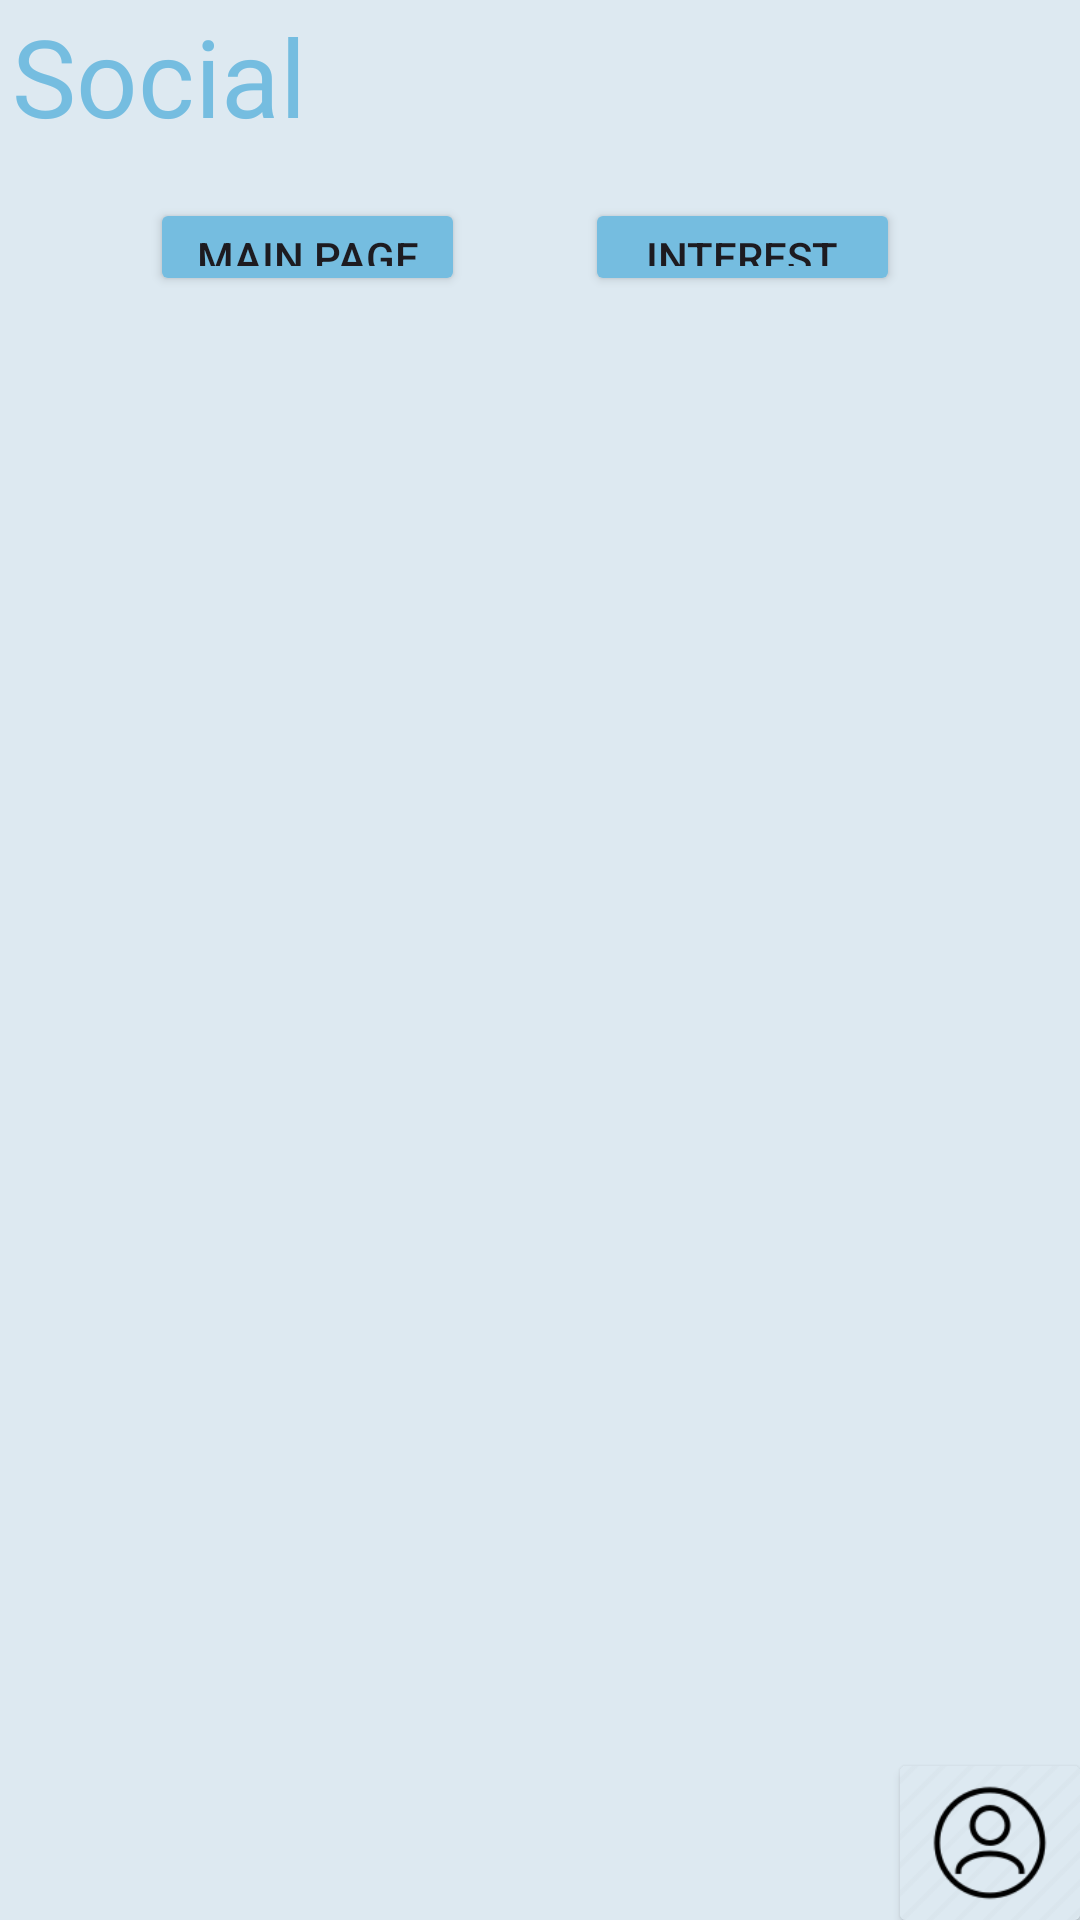

Icon click points for this 1080px×1920px phone screenshot, format (x,y):
user profile: (991,1853)
